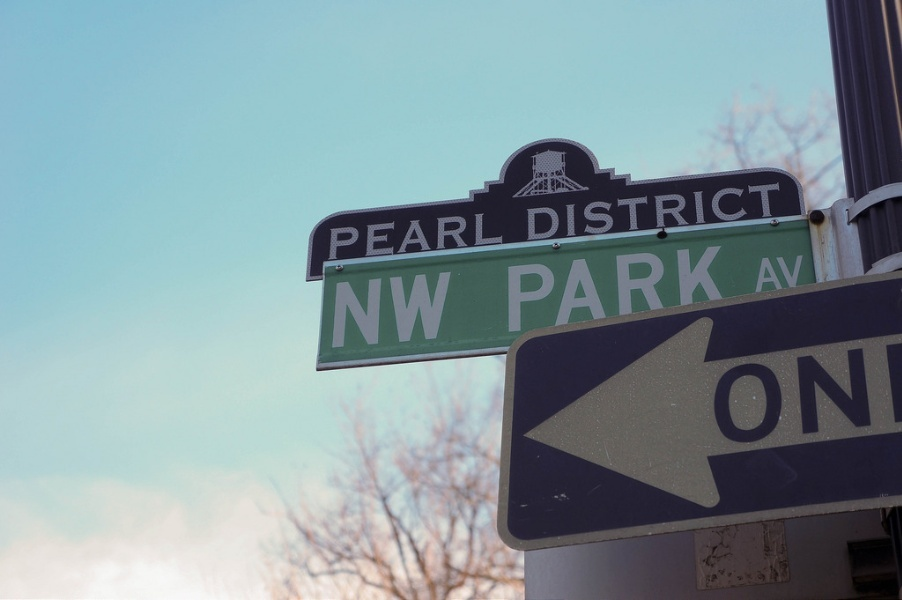text: (721, 345, 736, 446), (737, 345, 752, 446), (753, 345, 768, 446), (769, 345, 784, 446), (785, 345, 800, 446), (801, 345, 816, 446), (817, 345, 832, 446), (833, 345, 848, 446), (849, 345, 864, 446), (513, 245, 528, 334), (529, 245, 544, 334), (545, 245, 560, 334), (561, 245, 576, 334), (577, 245, 592, 334), (593, 245, 608, 334), (609, 245, 624, 334), (625, 245, 640, 334), (641, 245, 656, 334), (657, 245, 672, 334), (673, 245, 688, 334), (689, 245, 704, 334), (705, 245, 720, 334), (337, 268, 352, 351), (353, 268, 368, 351), (369, 268, 384, 351), (385, 268, 400, 351), (401, 268, 416, 351), (417, 268, 432, 351), (433, 268, 448, 351), (529, 182, 544, 243), (545, 182, 560, 243), (561, 182, 576, 243), (577, 182, 592, 243), (593, 182, 608, 243), (609, 182, 624, 243), (625, 182, 640, 243), (641, 182, 656, 243), (657, 182, 672, 243), (673, 182, 688, 243), (689, 182, 704, 243), (705, 182, 720, 243), (721, 182, 736, 243), (737, 182, 752, 243), (753, 182, 768, 243), (769, 182, 784, 243), (337, 211, 352, 263), (353, 211, 368, 263), (369, 211, 384, 263), (385, 211, 400, 263), (401, 211, 416, 263), (417, 211, 432, 263), (433, 211, 448, 263), (449, 211, 464, 263), (465, 211, 480, 263), (481, 211, 496, 263), (865, 345, 872, 446), (505, 245, 512, 334), (721, 245, 728, 334), (769, 254, 784, 294), (785, 254, 800, 294), (715, 345, 720, 446), (497, 211, 504, 263), (449, 268, 453, 351), (331, 211, 336, 263), (762, 254, 768, 294), (801, 254, 805, 294), (526, 182, 528, 243), (335, 268, 336, 351)
